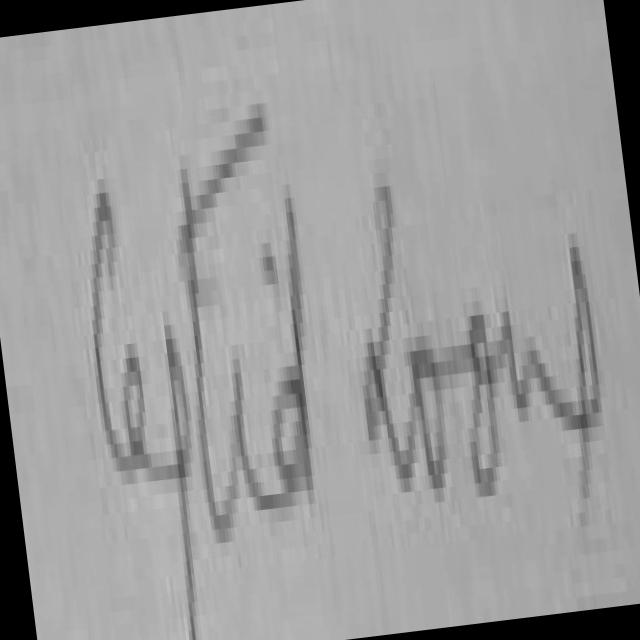0: (443, 274, 526, 584), (399, 280, 464, 518)
2: (321, 102, 428, 534)
C: (61, 123, 127, 514)
d: (244, 150, 345, 560)
e: (111, 318, 174, 504)
g: (536, 170, 624, 558)
i: (208, 252, 284, 578)
m: (486, 252, 568, 481)
p: (148, 285, 221, 640)
t: (150, 106, 248, 552)
